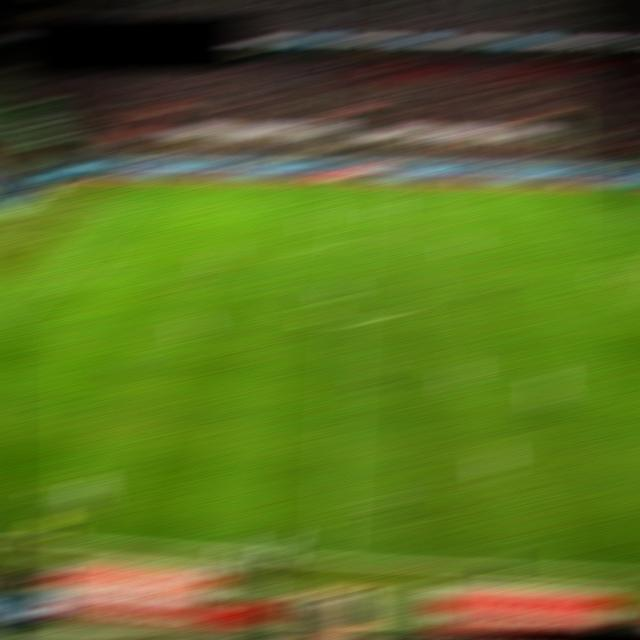bigarea_top_inner: (568, 215, 598, 223), (109, 207, 138, 213)
bigarea_top_outter: (15, 206, 44, 213)
bottom_arc_area_intersection: (14, 298, 44, 306)
corner: (57, 178, 85, 186)
halfcircle_bottom: (329, 319, 359, 326)
halfcircle_top: (334, 241, 364, 248)
midline_bottom_intersection: (315, 552, 347, 568)
midline_top_intersection: (338, 181, 367, 188)
smallarea_top_inner: (7, 236, 36, 243)
top_arc_area_intersection: (605, 254, 636, 262), (72, 242, 101, 249)
